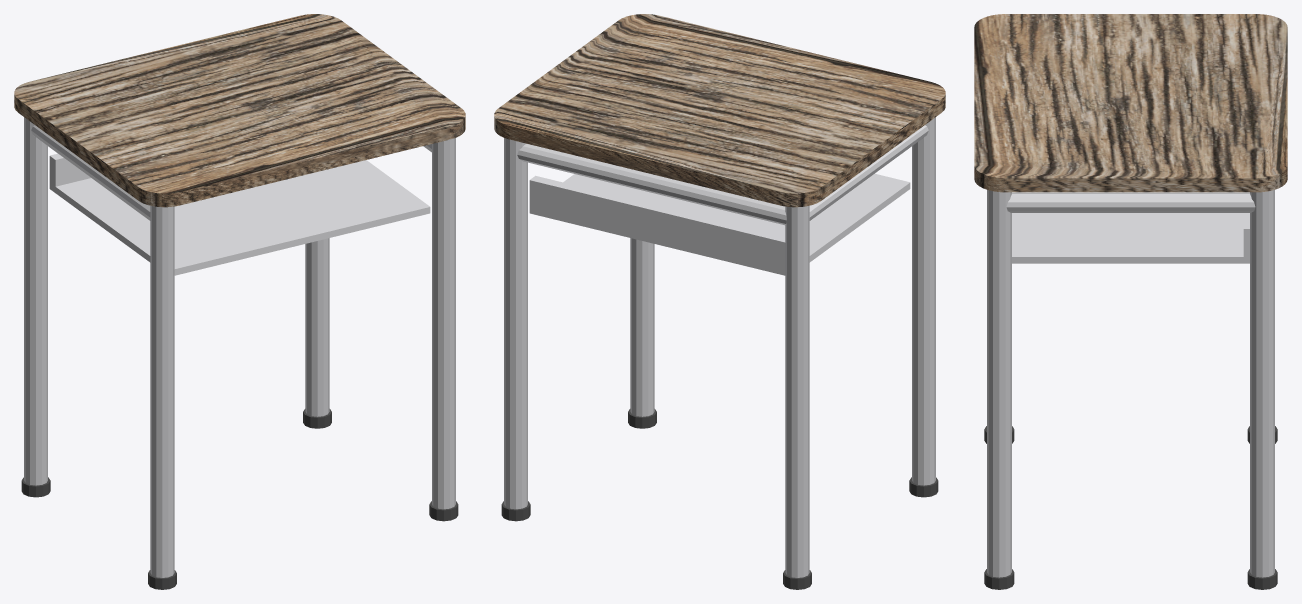
The model's file is pupitre1.fbx.
3 renders of one model, left to right at view 1: azimuth 30°, elevation 25°; view 2: azimuth 150°, elevation 25°; view 3: azimuth 270°, elevation 25°, orthographic. The views are drawn at different scales.
Parts seen in each view (by area): view 1: Pupitre; view 2: Pupitre; view 3: Pupitre.
Boxes of the visible parts, box(x1,y1,x2,y2) form: Pupitre: box(14, 14, 465, 589); Pupitre: box(494, 14, 945, 589); Pupitre: box(974, 14, 1287, 589).
Size of the model in its own units: 62 by 73.25 by 50.
4 materials, 1 textured.
